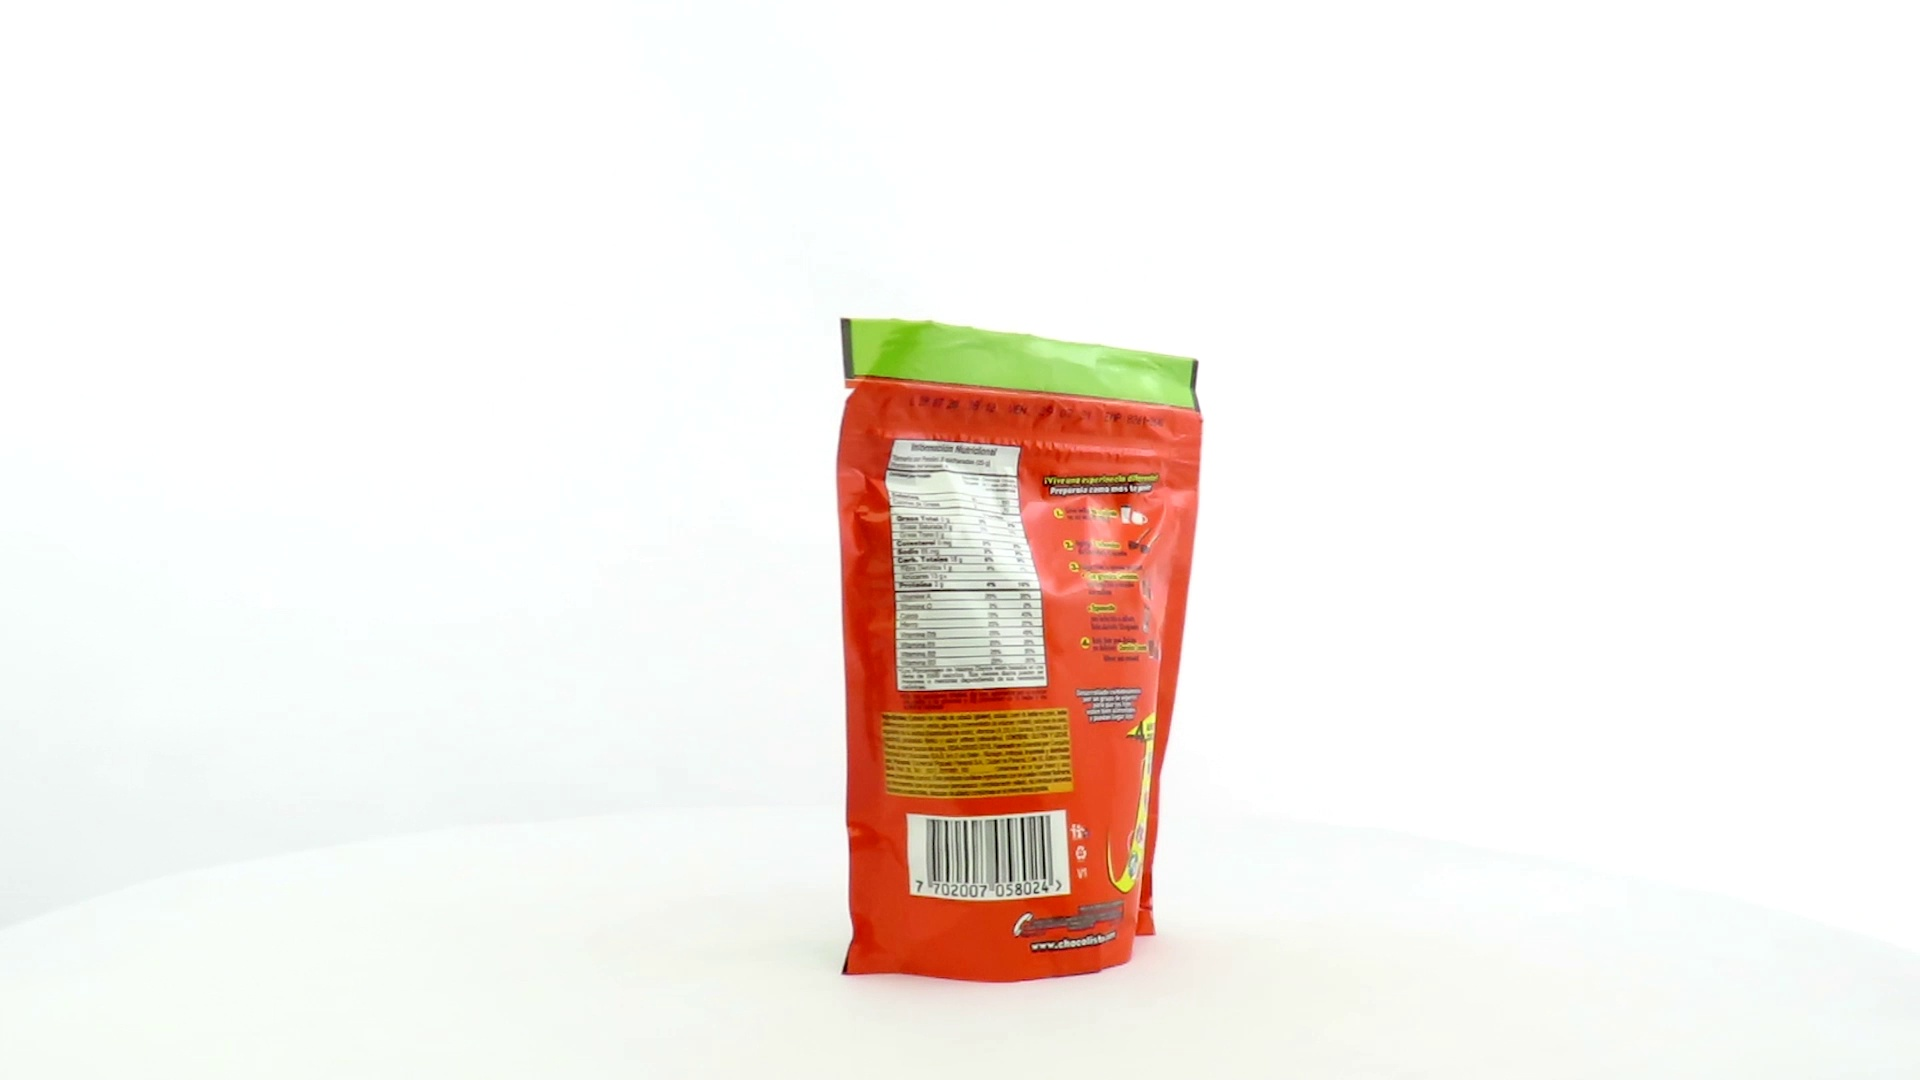COL0170102DYP10000: (831, 313, 1209, 989)
